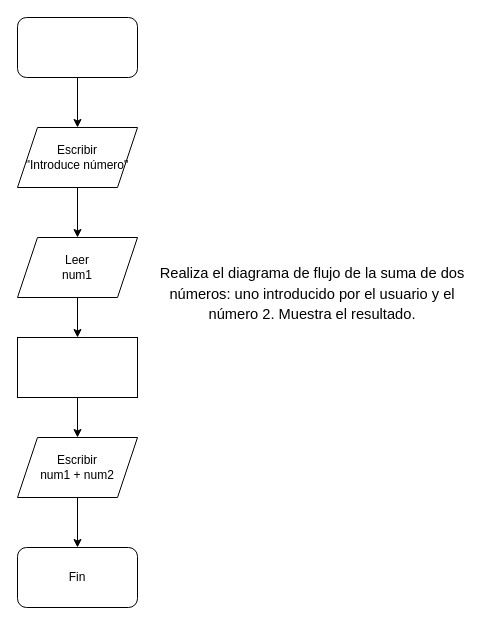
This 485x625 diagram has some shape labels left out. The centre of each missing label's shape, as x and y in pixels:
Inicio: point 77,47
num2 = 2: point 77,367
